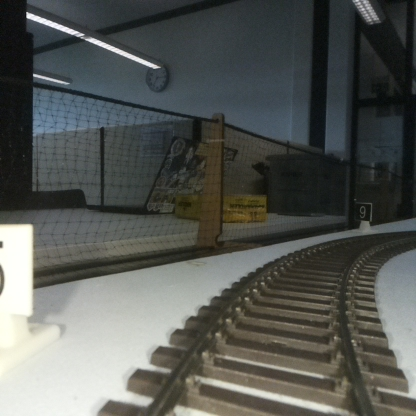black-stop-9: (355, 203, 371, 232)
